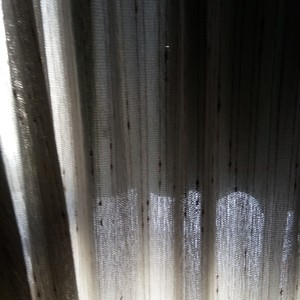out: (1, 1, 299, 299)
